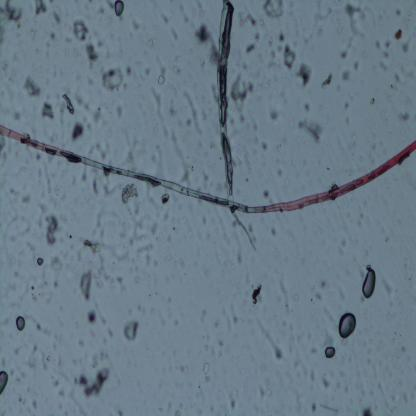Air bubble: (360, 267, 376, 302), (338, 312, 358, 340), (0, 368, 10, 394), (14, 316, 26, 334), (113, 2, 124, 19), (324, 345, 336, 360), (36, 258, 45, 266)
Background material: (113, 205, 150, 258), (76, 365, 112, 400), (170, 129, 192, 186), (92, 261, 128, 295), (231, 72, 256, 115), (76, 93, 102, 133), (182, 89, 205, 132), (196, 24, 218, 64), (344, 0, 363, 42), (299, 116, 325, 144), (274, 280, 295, 314), (100, 67, 126, 91), (81, 231, 103, 258), (373, 33, 394, 61), (0, 2, 25, 24), (44, 214, 60, 247), (208, 335, 229, 360), (121, 316, 140, 343), (26, 337, 42, 368), (297, 61, 314, 90), (264, 0, 286, 22), (78, 268, 92, 301), (240, 7, 257, 34), (148, 87, 161, 121), (85, 140, 107, 160), (121, 183, 140, 205), (27, 274, 40, 306), (73, 19, 89, 45), (49, 250, 67, 273), (24, 74, 41, 98), (37, 200, 50, 231), (249, 122, 261, 154), (311, 281, 330, 301), (90, 346, 108, 367), (320, 399, 341, 416), (282, 44, 295, 71), (264, 105, 282, 124), (177, 2, 192, 24), (84, 306, 100, 326), (62, 92, 75, 116), (200, 171, 214, 193), (152, 52, 166, 74), (70, 121, 85, 141), (260, 375, 272, 400), (382, 276, 394, 298), (90, 176, 102, 198), (267, 48, 279, 70), (323, 326, 336, 346), (390, 67, 404, 85), (50, 5, 62, 26), (34, 0, 48, 18), (87, 44, 98, 66), (251, 285, 262, 307), (197, 138, 211, 155), (203, 363, 213, 386), (20, 192, 36, 206), (136, 65, 149, 82), (0, 22, 11, 42), (42, 104, 56, 119), (134, 243, 157, 252), (337, 235, 349, 252), (270, 346, 284, 360), (378, 61, 393, 74), (393, 28, 405, 44), (339, 68, 352, 82), (321, 75, 334, 89), (25, 239, 40, 251), (103, 180, 113, 198), (45, 178, 55, 196), (173, 56, 183, 73), (339, 97, 353, 109), (244, 221, 256, 235), (398, 111, 412, 123), (321, 374, 332, 389), (157, 72, 168, 87), (162, 11, 172, 27), (47, 29, 59, 42), (1, 58, 12, 72), (200, 305, 209, 322), (230, 390, 238, 409), (168, 98, 176, 117), (210, 84, 218, 103), (360, 405, 375, 415), (301, 98, 311, 113), (130, 19, 139, 35), (272, 166, 284, 178), (276, 30, 288, 42), (394, 1, 402, 18), (9, 69, 18, 84), (83, 74, 94, 86), (11, 186, 22, 198), (42, 354, 50, 370), (125, 62, 134, 76), (368, 94, 377, 108), (50, 279, 61, 290), (147, 37, 157, 49), (400, 40, 410, 52), (307, 346, 322, 354), (310, 402, 320, 414), (246, 43, 256, 54), (96, 38, 106, 49), (96, 5, 107, 15), (260, 186, 269, 198), (151, 221, 158, 236), (160, 194, 170, 204), (235, 252, 244, 263), (261, 139, 268, 153), (170, 28, 178, 40), (234, 308, 240, 324), (199, 56, 206, 69), (317, 25, 324, 38), (56, 388, 65, 398), (252, 33, 262, 42), (100, 314, 108, 325), (13, 110, 21, 121), (342, 51, 349, 63), (80, 168, 86, 182), (343, 384, 350, 396), (267, 228, 277, 236), (108, 329, 115, 340), (179, 364, 188, 372), (165, 294, 173, 303), (145, 254, 151, 266), (18, 375, 26, 384), (352, 61, 360, 70), (310, 372, 318, 381), (172, 409, 182, 416), (166, 252, 173, 262), (44, 329, 52, 337), (133, 275, 141, 283), (117, 408, 125, 416), (401, 344, 408, 353), (232, 219, 238, 229), (78, 339, 85, 347), (53, 331, 59, 340), (119, 107, 124, 117), (107, 1, 114, 8), (264, 80, 270, 88), (32, 400, 37, 409), (35, 321, 40, 330), (147, 275, 152, 283), (56, 378, 60, 388), (180, 402, 186, 408)
Cellulose filter fibre: (214, 0, 260, 256)
Cotton: (0, 123, 416, 218)
